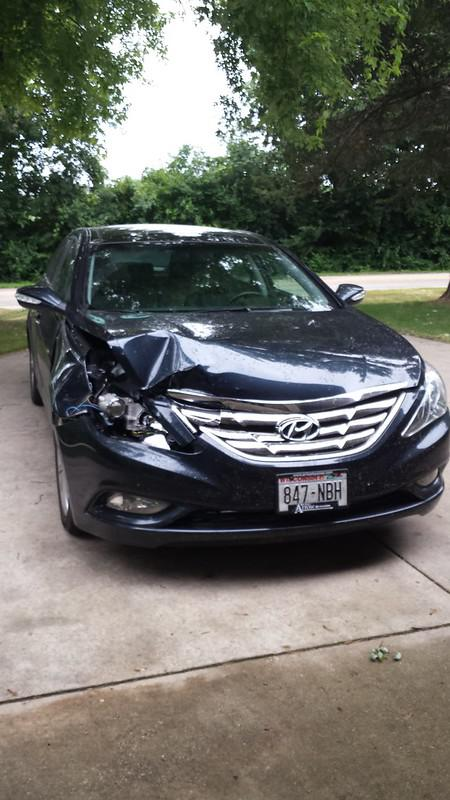bonnet-dent: (89, 304, 326, 400)
